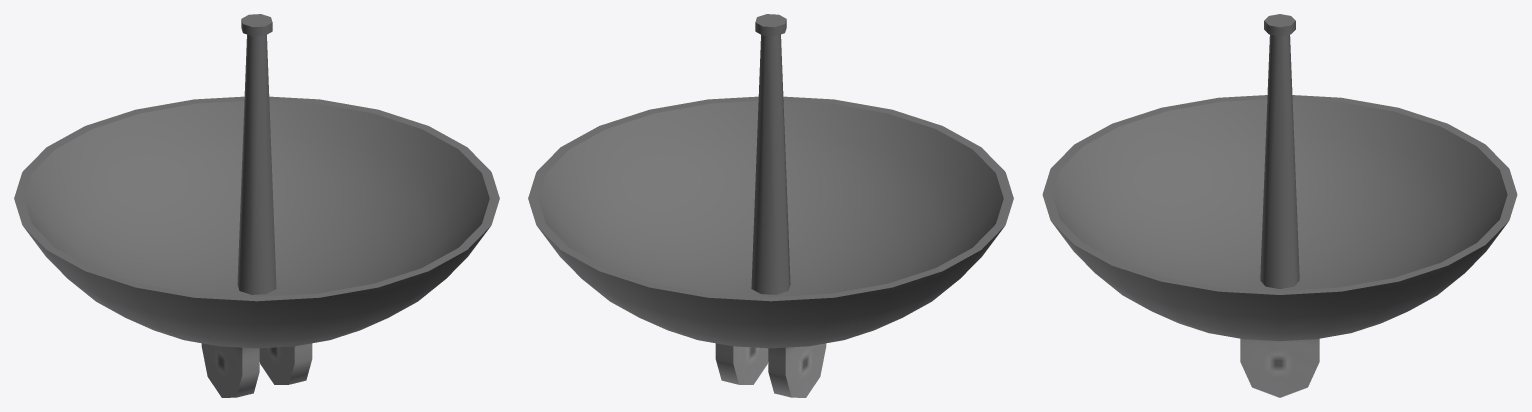
The model's file is Alniyat_Antenna_2_1_2.obj.
3 renders of one model, left to right at view 1: azimuth 30°, elevation 25°; view 2: azimuth 150°, elevation 25°; view 3: azimuth 270°, elevation 25°, orthographic. The views are drawn at different scales.
Parts seen in each view (by area): view 1: Alniyat_Antenna_2_1_2; view 2: Alniyat_Antenna_2_1_2; view 3: Alniyat_Antenna_2_1_2.
Part boxes in pixels (<box>): Alniyat_Antenna_2_1_2: <box>14,14,499,397</box>; Alniyat_Antenna_2_1_2: <box>528,14,1013,397</box>; Alniyat_Antenna_2_1_2: <box>1042,14,1517,397</box>.
Bounding box in the file's own units: 0.3 × 0.2512 × 0.3.
